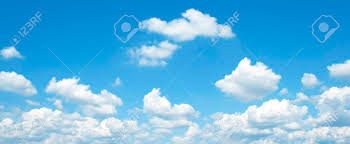sky: (1, 1, 350, 143)
